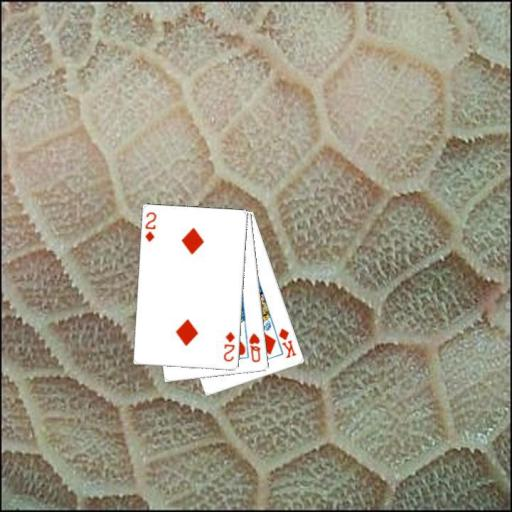2D: (220, 330, 237, 364), (142, 209, 158, 243)
KD: (276, 325, 298, 360)
QH: (246, 330, 262, 364)
